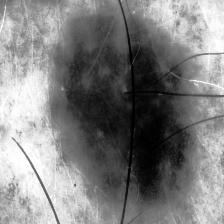Benign Marking or Mole: (58, 11, 200, 203)
